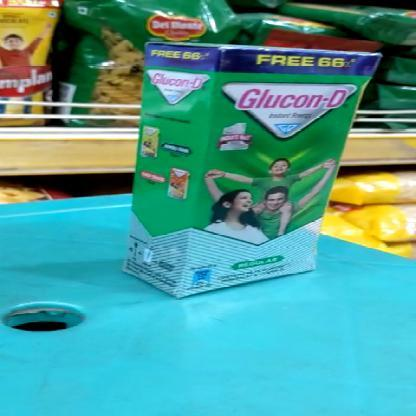Glucon D Regular 1-KG: (174, 45, 362, 287)
